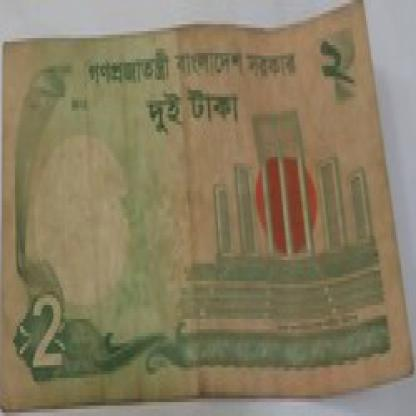two taka: (24, 284, 76, 378), (306, 42, 355, 138)
